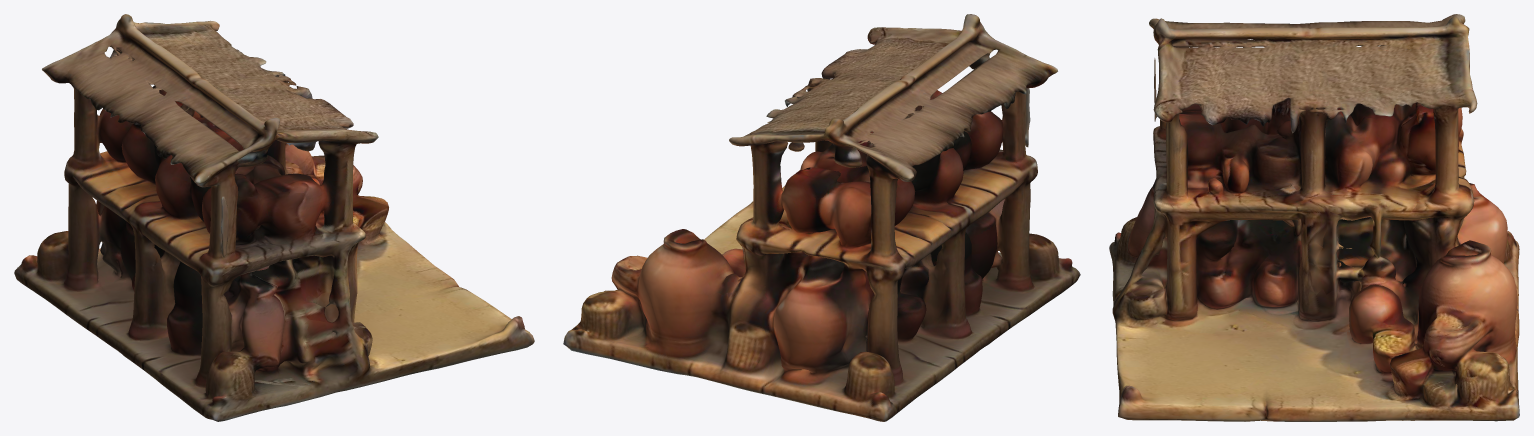
Rendered from granary.glb.
3 views of the same model, side by side, from view 1: azimuth 30°, elevation 25°; view 2: azimuth 150°, elevation 25°; view 3: azimuth 270°, elevation 25° (orthographic). The views are drawn at different scales.
Parts seen in each view (by area): view 1: tripo_node_922467c5-6cb5-4013-b65d-468197e4f26d; view 2: tripo_node_922467c5-6cb5-4013-b65d-468197e4f26d; view 3: tripo_node_922467c5-6cb5-4013-b65d-468197e4f26d.
Part boxes in pixels (bbox=[...]): tripo_node_922467c5-6cb5-4013-b65d-468197e4f26d: bbox=[14, 14, 534, 421]; tripo_node_922467c5-6cb5-4013-b65d-468197e4f26d: bbox=[563, 14, 1080, 421]; tripo_node_922467c5-6cb5-4013-b65d-468197e4f26d: bbox=[1109, 14, 1519, 421].
Size of the model in its own units: 0.5959 by 0.472 by 0.6229.
Materials: 1 (1 with a texture image).
